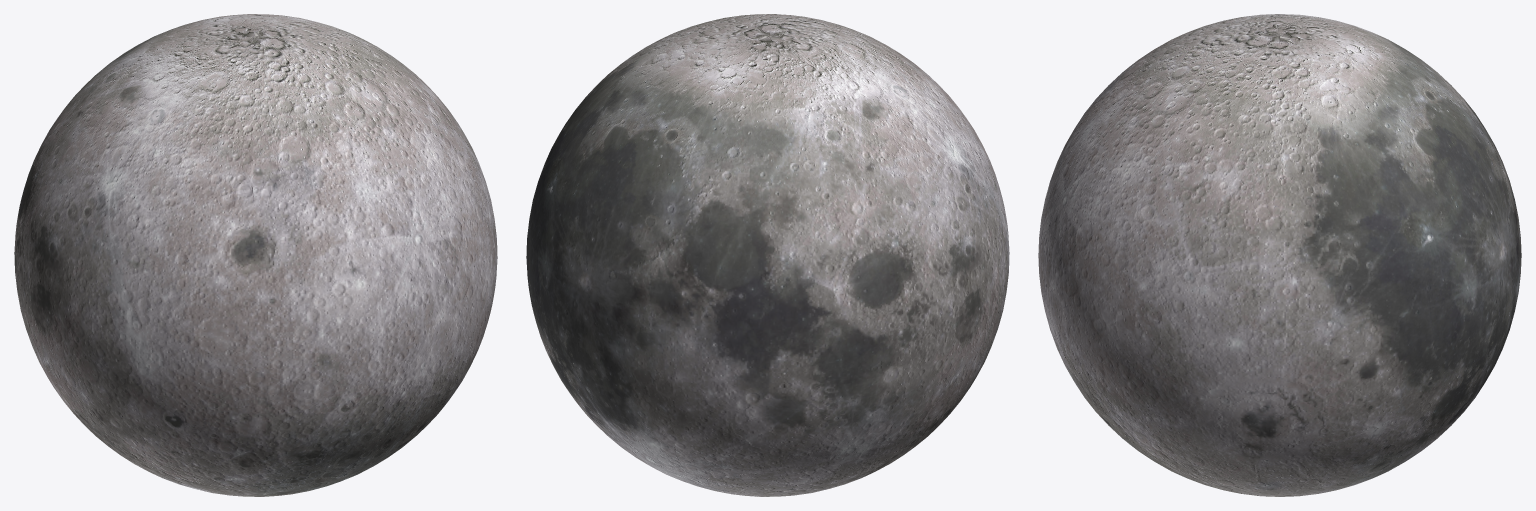
File: pluto.fbx
3 views of the same model, side by side, from view 1: azimuth 30°, elevation 25°; view 2: azimuth 150°, elevation 25°; view 3: azimuth 270°, elevation 25° (orthographic).
Parts seen in each view (by area): view 1: 86; view 2: 86; view 3: 86.
Part boxes in pixels (<box>): 86: <box>14,14,497,496</box>; 86: <box>526,14,1009,496</box>; 86: <box>1038,14,1521,496</box>.
Bounding box in the file's own units: 0.347 × 0.347 × 0.347.
